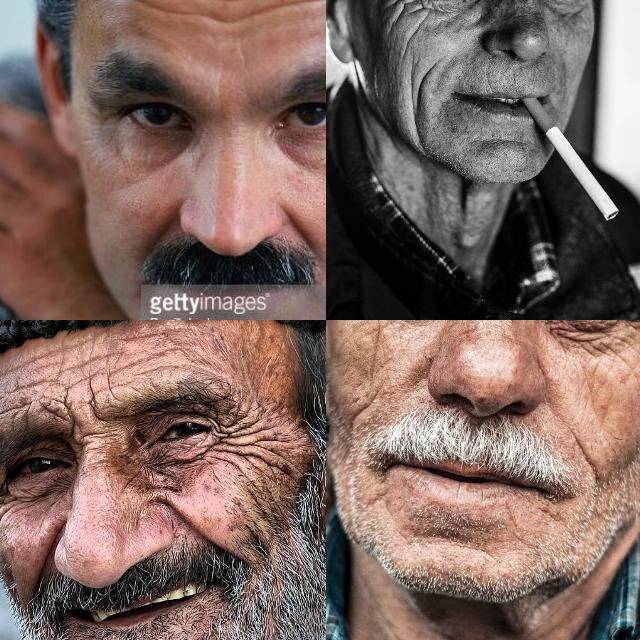bunny_line: (120, 469, 144, 495)
crows_feet: (218, 415, 256, 459), (386, 0, 420, 18), (619, 320, 640, 343), (0, 486, 12, 517)
forehead: (187, 0, 236, 32), (115, 350, 177, 374), (59, 344, 95, 382), (9, 376, 47, 404), (142, 0, 182, 22), (251, 0, 301, 16)
frown_line: (90, 389, 112, 431), (62, 401, 84, 441)
gummy_smile: (160, 498, 210, 552), (31, 532, 57, 598), (570, 430, 602, 478)
masseter: (244, 484, 282, 534), (401, 76, 431, 138), (344, 394, 378, 434)
